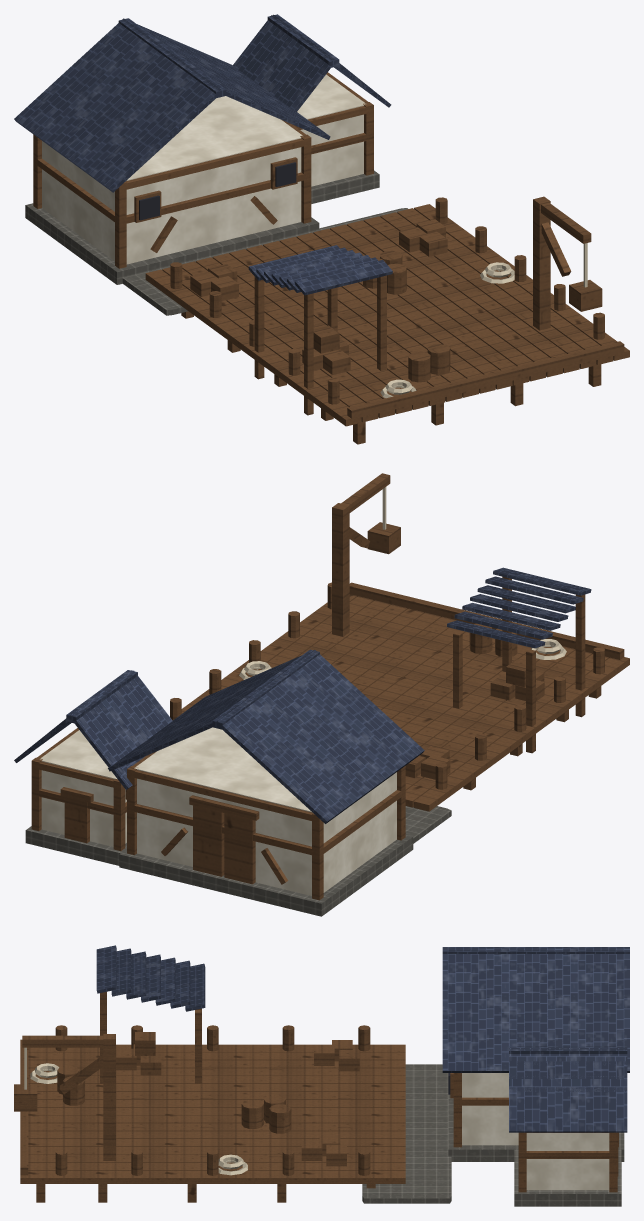
The model's file is trading.gltf.
The picture shows the model from 3 angles, top to bottom: view 1: azimuth 30°, elevation 25°; view 2: azimuth 150°, elevation 25°; view 3: azimuth 270°, elevation 25°; orthographic projection. The views are drawn at different scales.
Parts seen in each view (by area): view 1: Trading; view 2: Trading; view 3: Trading.
Part boxes in pixels (x1=…): Trading: x1=14, y1=14, x2=629, y2=444; Trading: x1=14, y1=473, x2=629, y2=916; Trading: x1=14, y1=945, x2=629, y2=1206.
Bounding box in the file's own units: 5.07 × 2.8 × 8.95.
9 materials, 6 textured.
